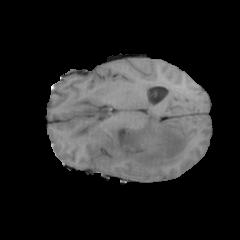glioma: (64, 102, 193, 172)
